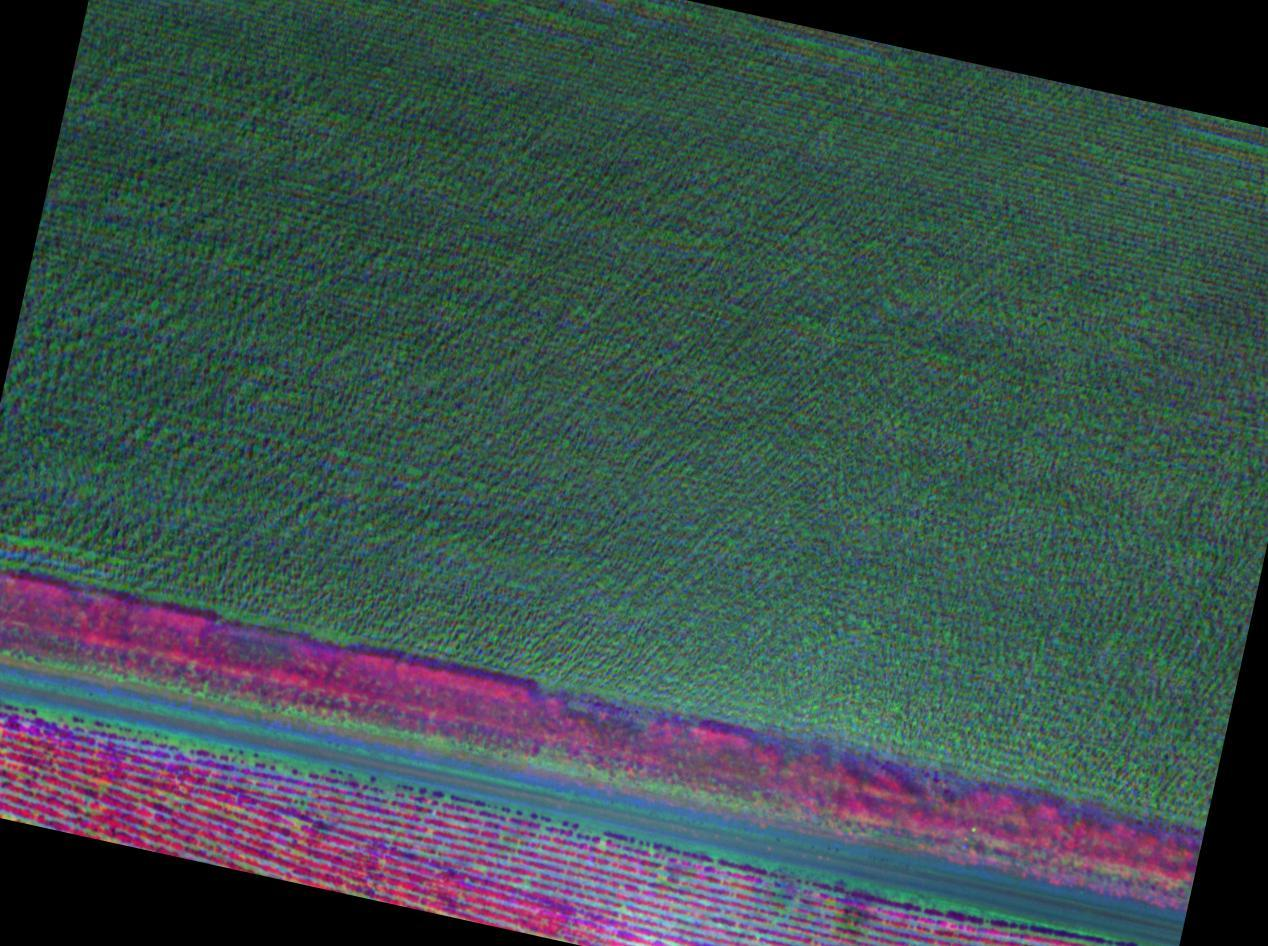dc: (827, 878, 911, 943)
